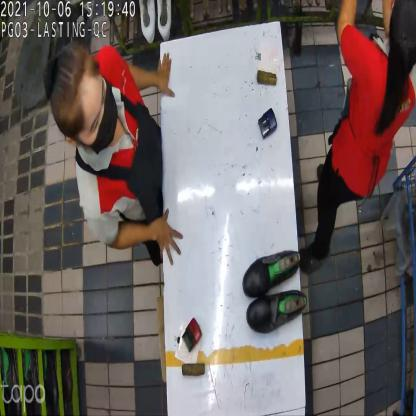shoes: (241, 248, 306, 334)
stamp: (182, 316, 202, 351), (258, 106, 276, 140)
